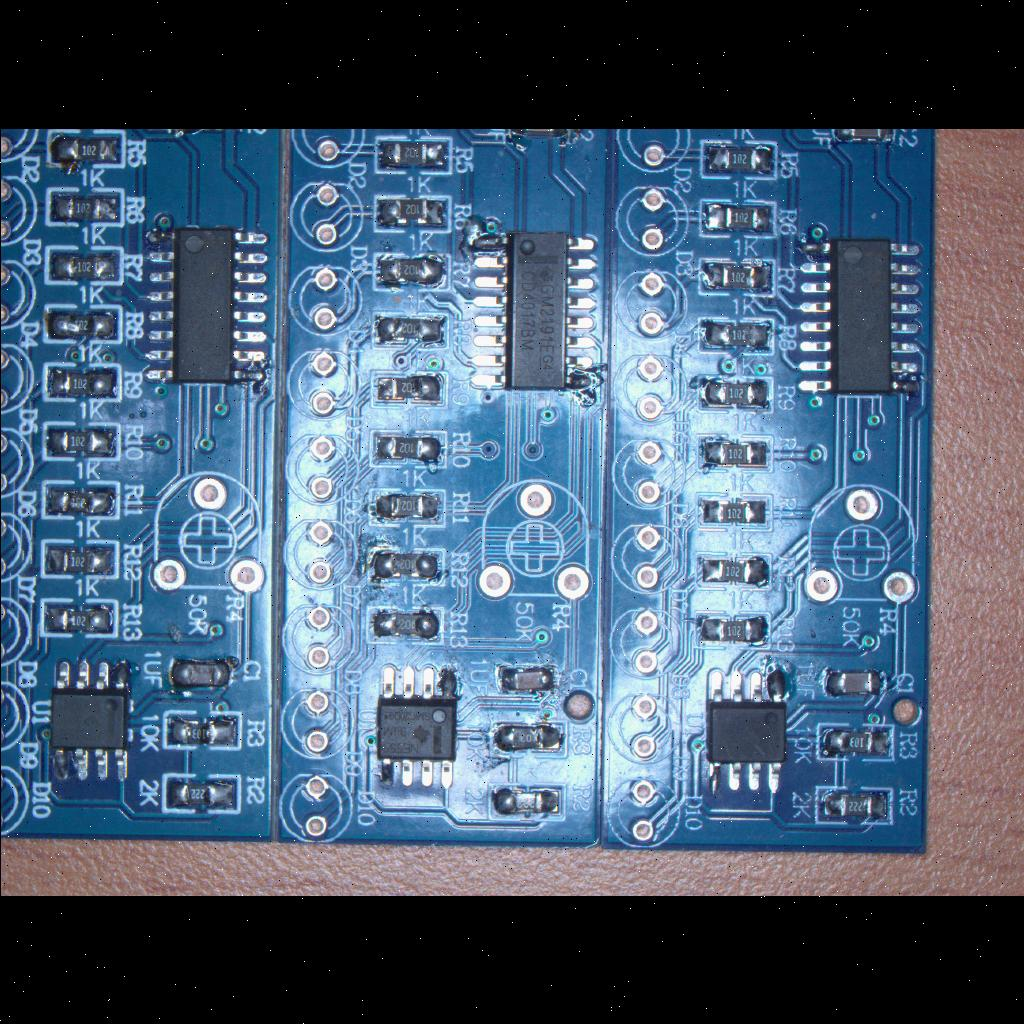OK: (127, 216, 277, 392), (460, 220, 604, 402), (792, 234, 930, 402), (366, 658, 464, 794), (40, 654, 138, 788), (697, 666, 793, 800), (363, 480, 449, 532), (363, 542, 451, 590), (38, 300, 126, 348), (694, 253, 780, 301), (810, 784, 898, 830), (694, 312, 778, 360), (696, 135, 780, 183), (362, 601, 444, 649), (811, 720, 899, 764), (692, 372, 776, 418), (39, 418, 123, 464), (484, 781, 570, 825), (696, 196, 778, 242), (160, 770, 242, 816), (689, 608, 773, 652), (691, 490, 775, 534), (694, 431, 778, 475), (485, 718, 569, 762), (370, 250, 454, 294), (36, 596, 120, 640), (38, 478, 122, 522), (42, 184, 126, 228), (39, 360, 125, 402), (366, 427, 448, 471), (38, 538, 120, 582), (160, 652, 242, 696), (370, 192, 454, 234), (694, 547, 774, 591), (368, 368, 450, 410), (372, 134, 454, 176), (161, 710, 243, 752), (44, 130, 126, 170), (371, 312, 451, 352), (486, 660, 566, 698), (819, 664, 887, 702), (44, 250, 120, 282)
